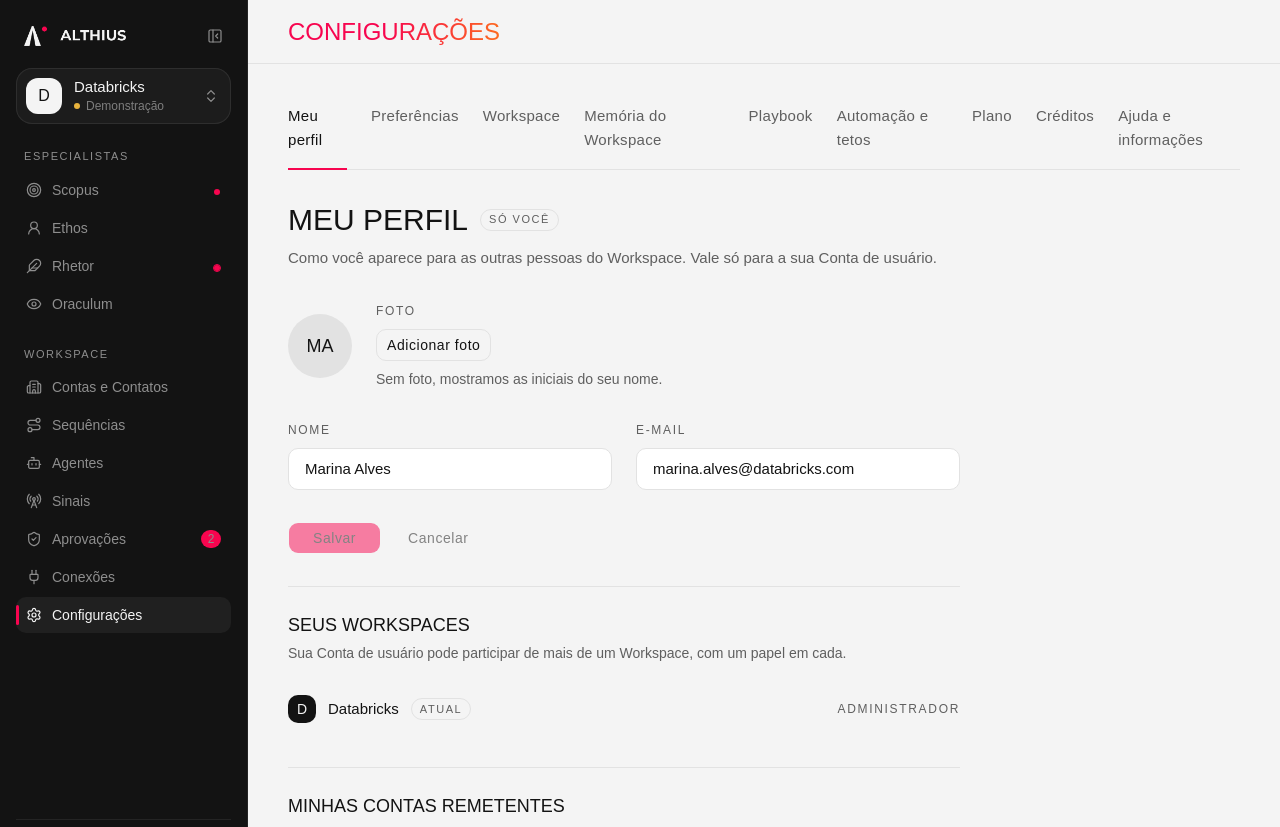
Test: Meu perfil › valida nome vazio e formato de e-mail sem alterar os dados salvos
Clear the field labelled "Nome": x=450, y=469 [288,448,612,490]
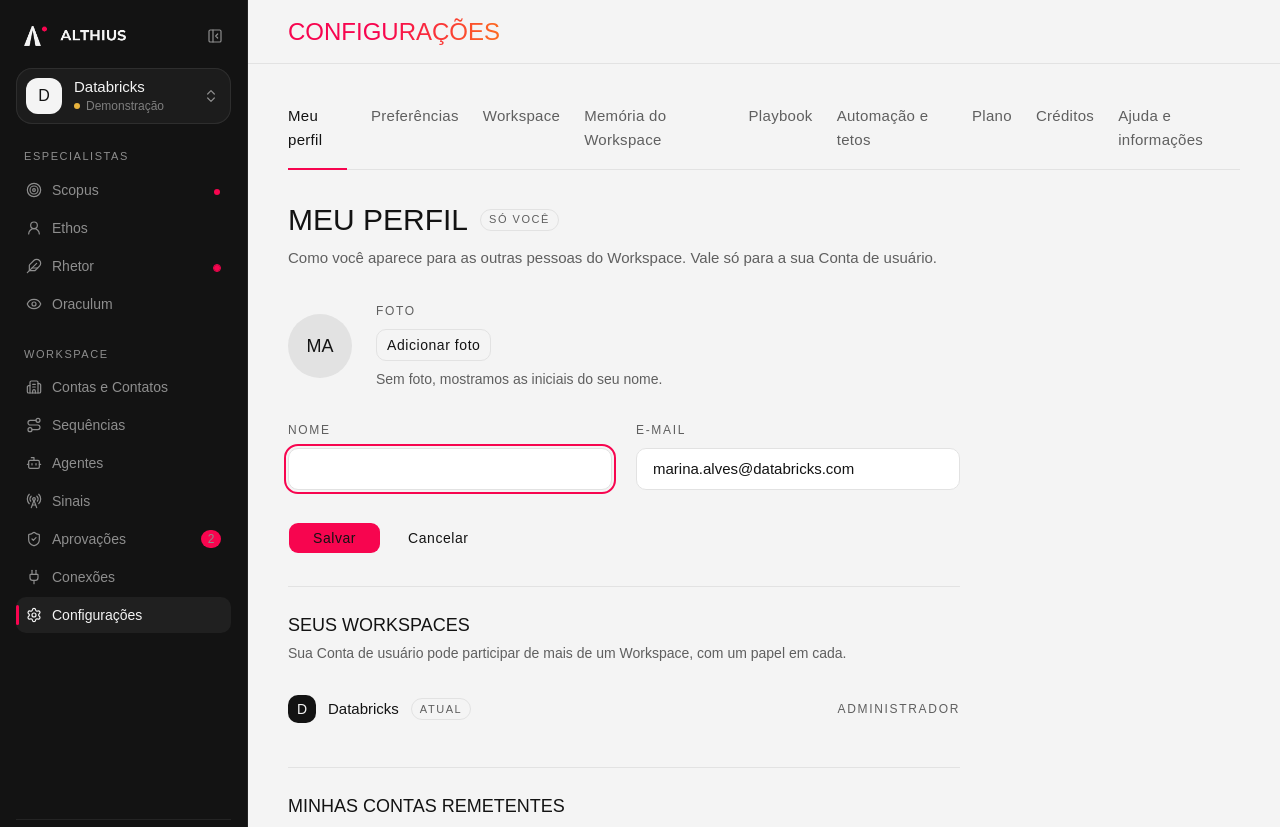
Replace the text in the field labelled "E-mail" with "não é um e-mail": x=798, y=469 [636,448,960,490]
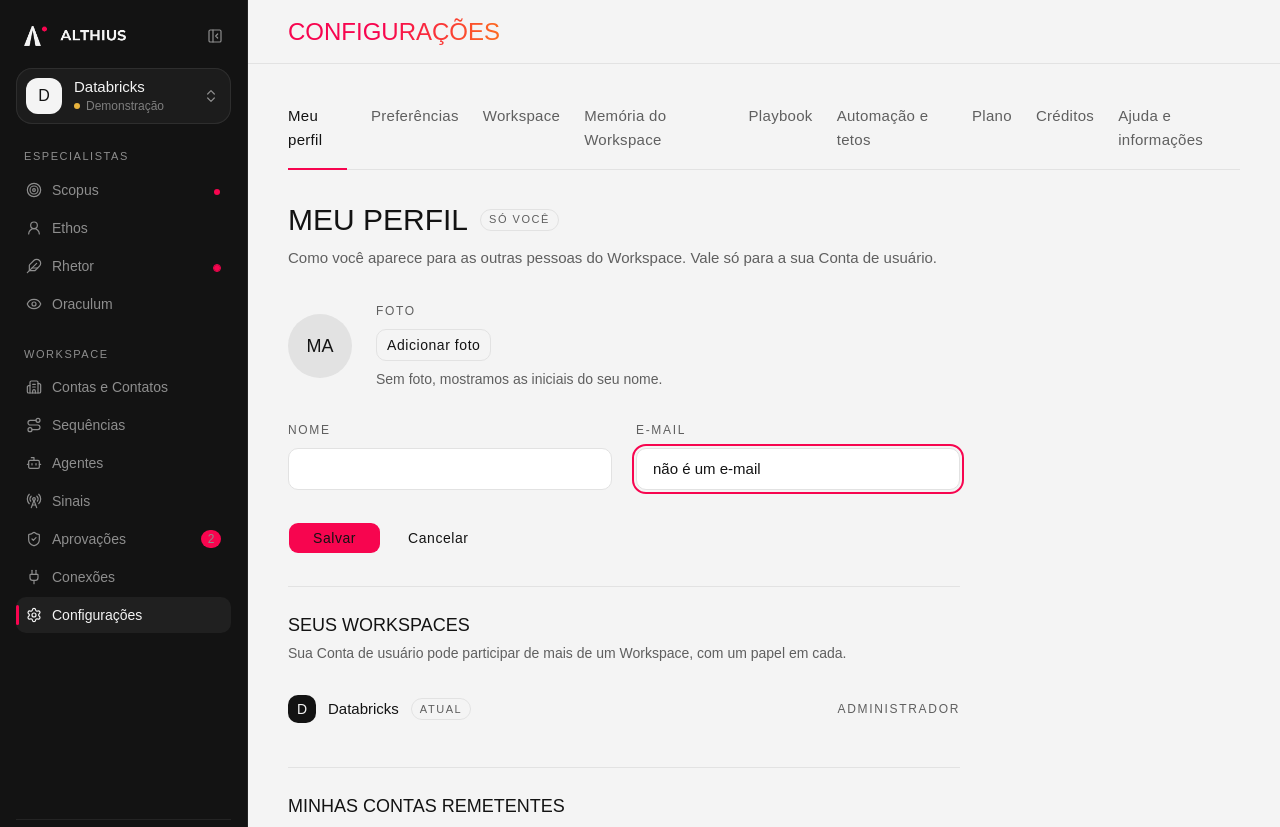
Click the button "Salvar": x=334, y=538 [288,522,381,554]
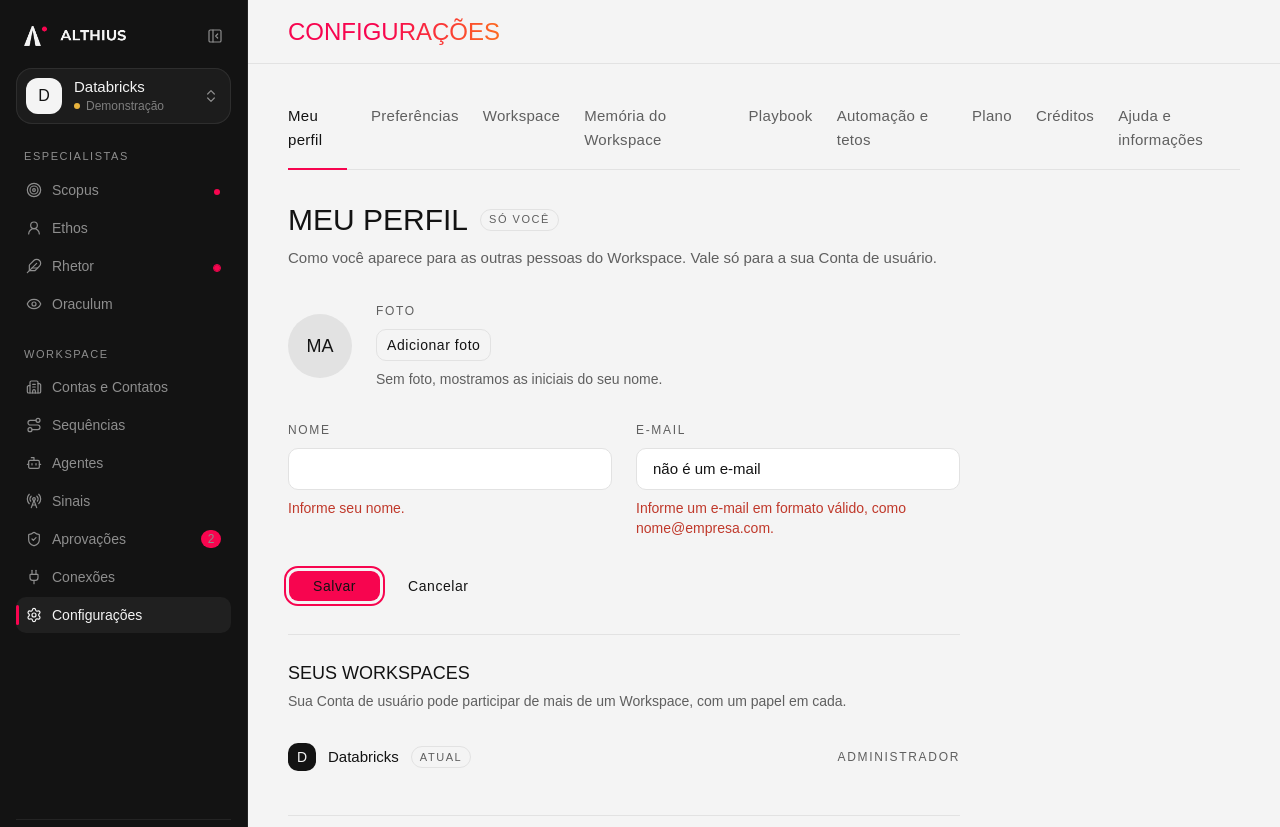
expect the text "Informe seu nome." is shown: met, box [288,500,405,516]
expect the text "Informe um e-mail em formato válido, como nome@empresa.com." is shown: met, box [636,500,906,536]
# Nada foi persistido: reabrir a seção mostra os dados anteriores.
Click the link "Preferências": x=415, y=116 [371,107,459,124]
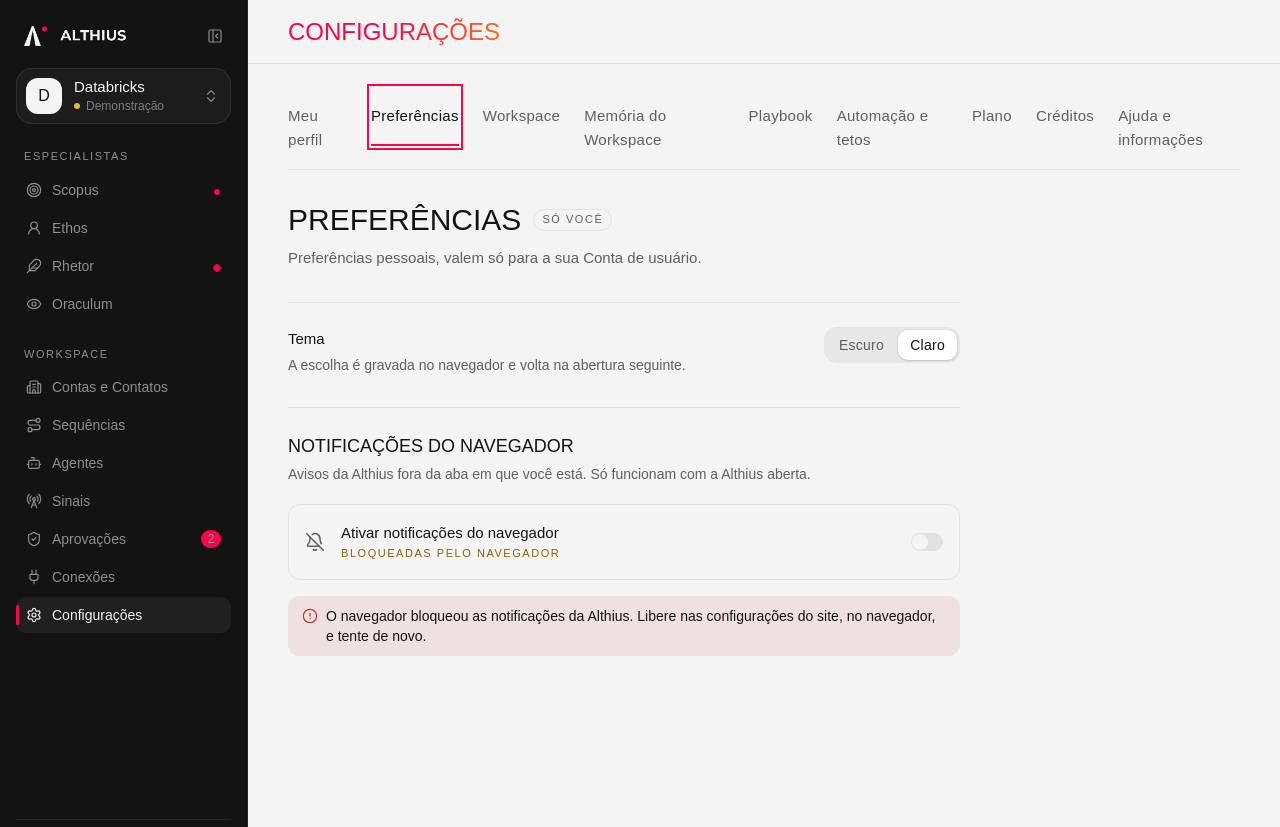
Click the link "Meu perfil": x=303, y=116 [288,107,322,148]
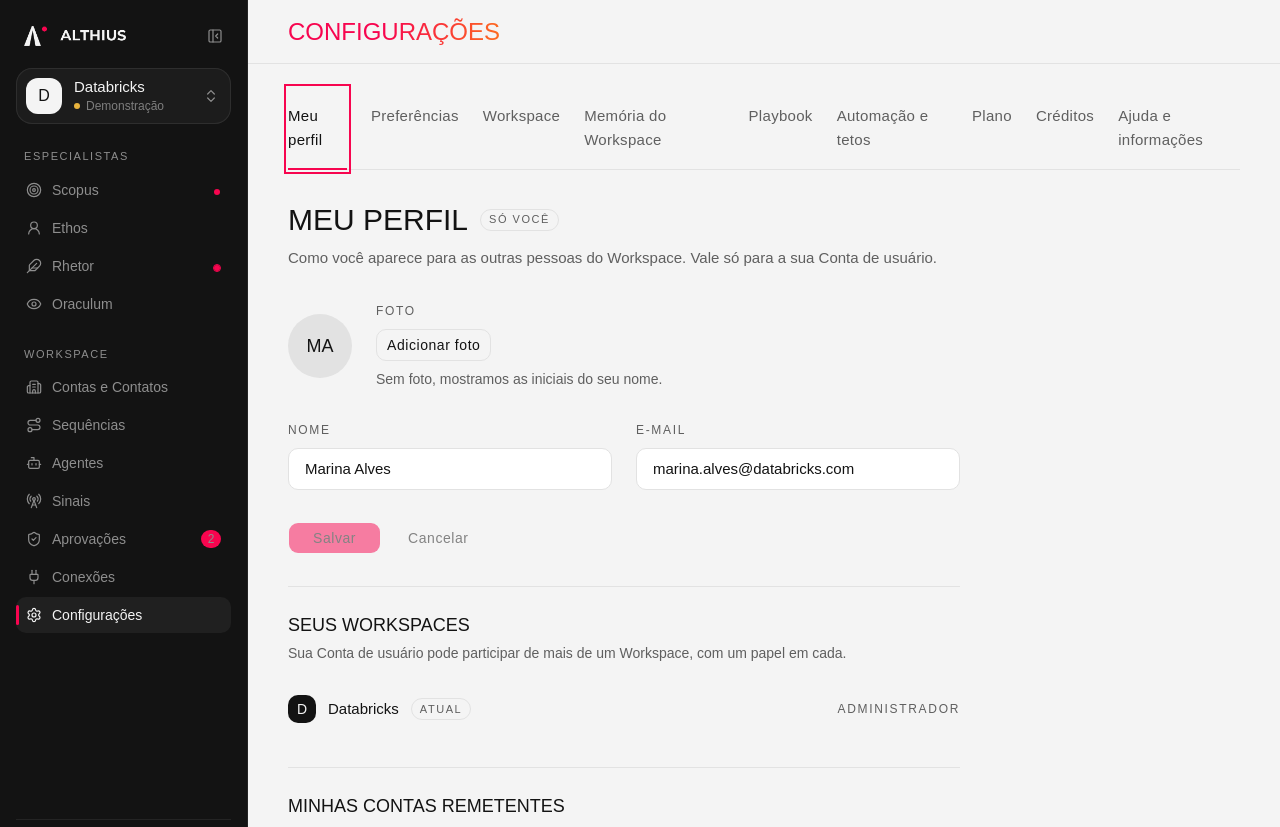
expect the field labelled "Nome" holds "Marina Alves": met, box [288,448,612,490]
